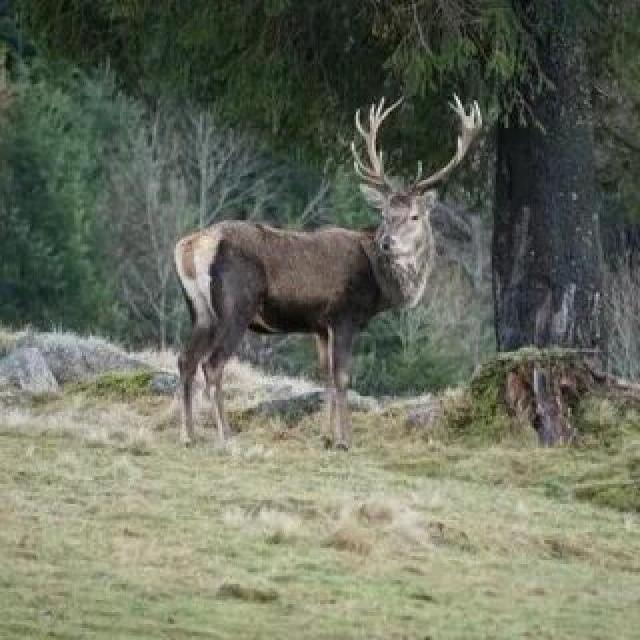deer: (152, 103, 498, 476)
